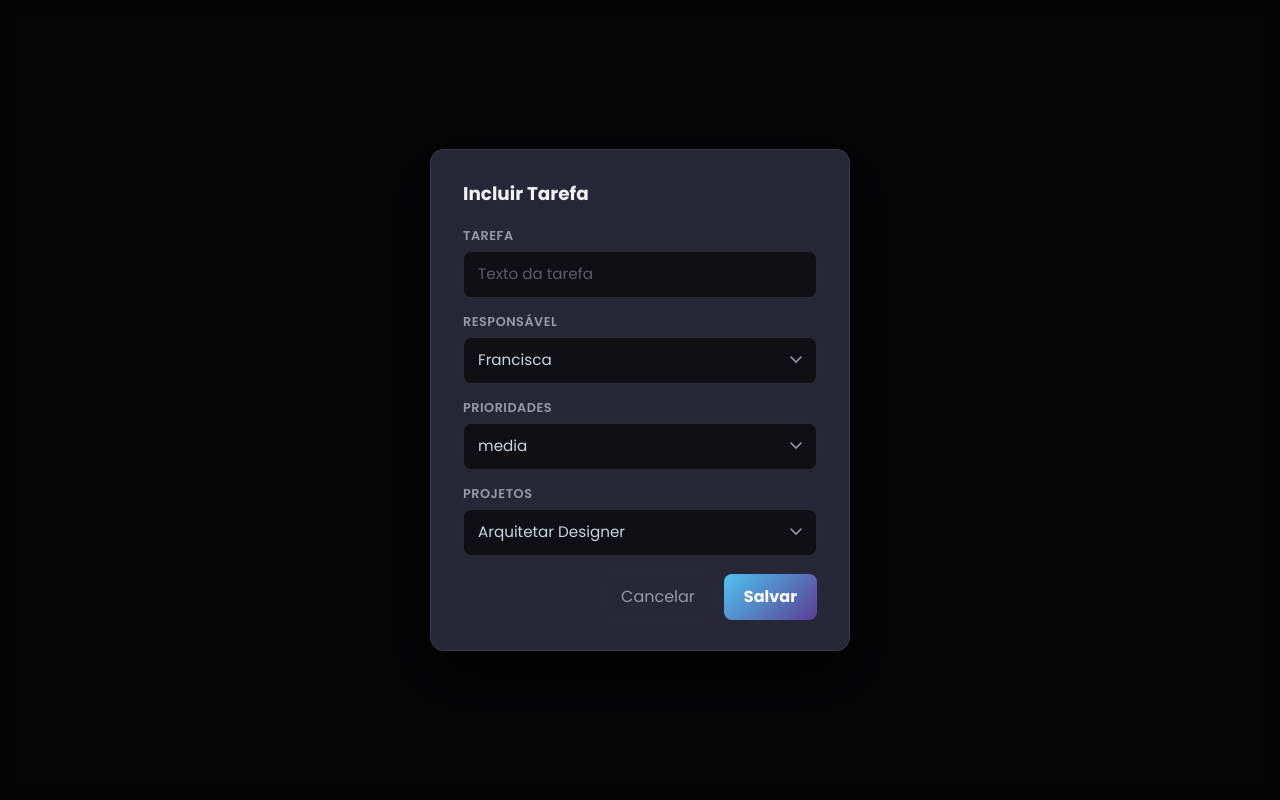
ModalTarefa › um onSalvar que nunca responde, o botão vira 'Salvando...' e fica desabilitado
In the field labelled "Tarefa": (640, 274) [463,251,817,298], type "Estudar mocks"
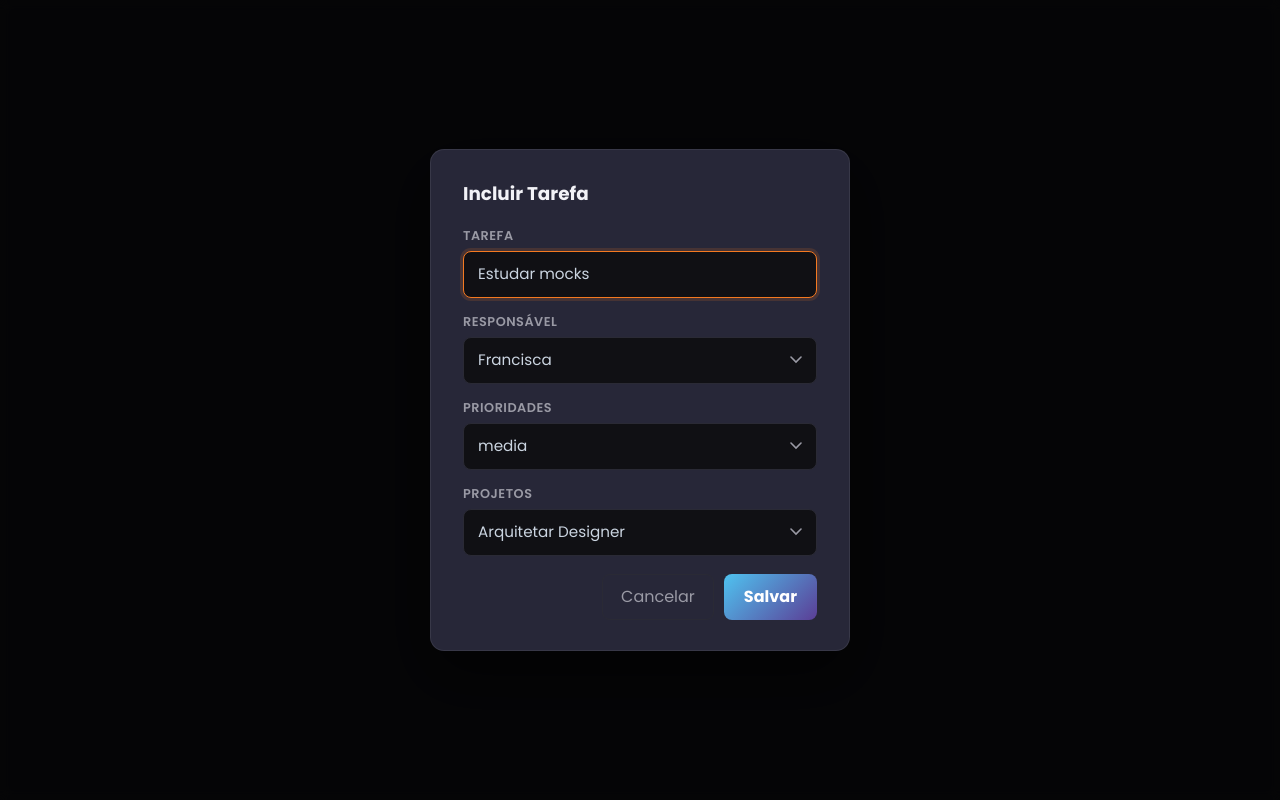
Click the button "Salvar": (770, 597) [724,574,817,620]
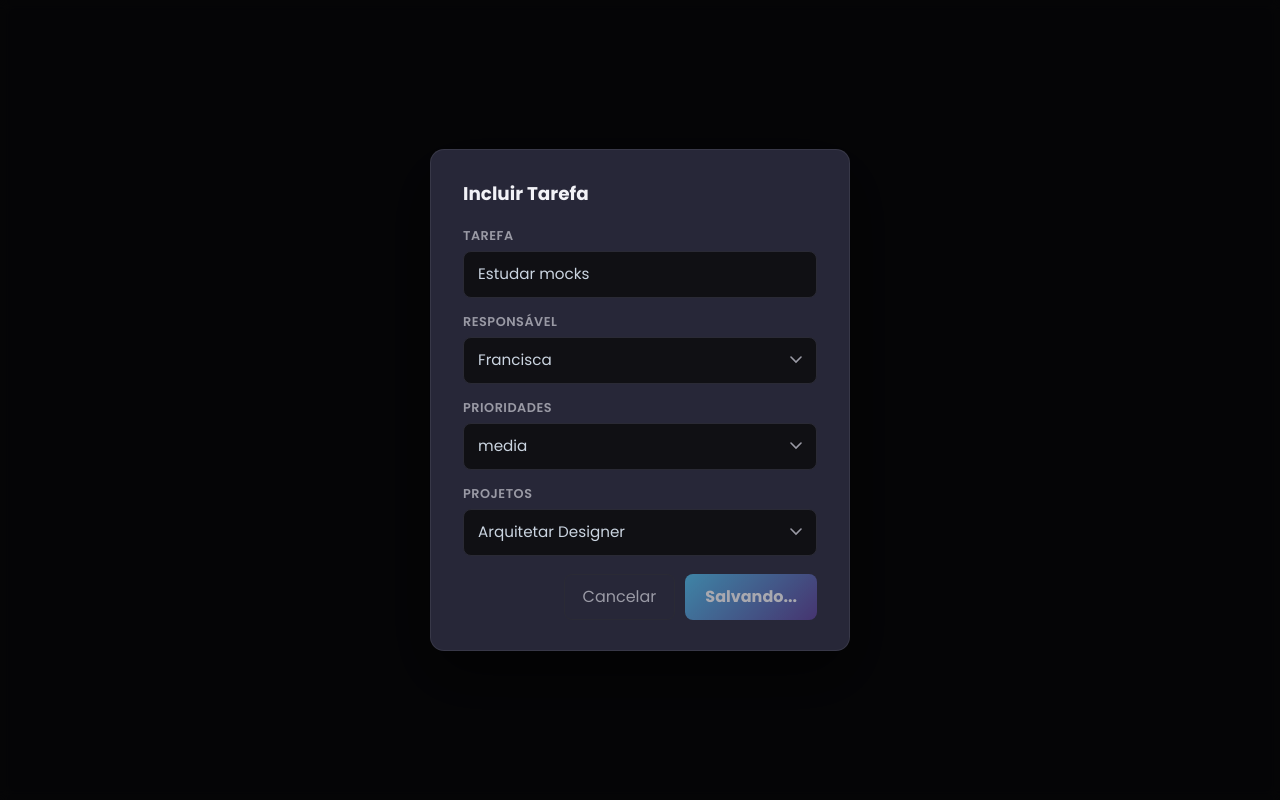
Expected: the button named "Salvar" shows "Salvando..", [685,574,817,620]
Expected: the button named "Salvar" is disabled, [685,574,817,620]
